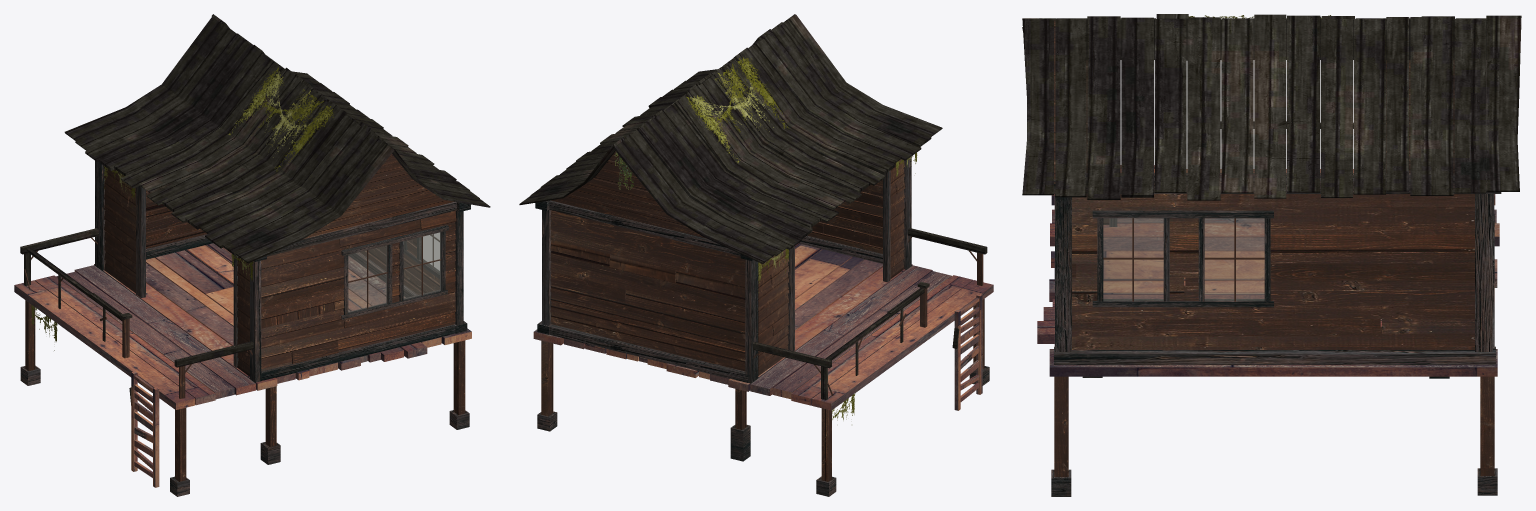
The model's file is forest_wooden_house.glb.
3 renders of one model, left to right at view 1: azimuth 30°, elevation 25°; view 2: azimuth 150°, elevation 25°; view 3: azimuth 270°, elevation 25°, orthographic. The views are drawn at different scales.
Parts seen in each view (by area): view 1: Roof_3, floor_0, left_side_4, frame_10, base_6, glass_left_18, front_wood_5, window_frame_left_17, roof_moss_1_16, ladder_8, rail_front_1_7, Right_Side_1 (+4 smaller); view 2: Roof_3, Right_Side_1, floor_0, frame_10, base_6, left_side_4, front_wood_5, roof_moss_1_16, ladder_8, rail_front_1_7, front_wood_2_11, rail_front_2_9; view 3: Roof_3, back_side_2, floor_0, frame_10, glass_back_20, back_window_frame_19, base_6, front_wood_5.
Boxes of the visible parts, left/top/right/bottom form: Roof_3: left=64, top=14, right=490, bottom=263; floor_0: left=14, top=243, right=471, bottom=409; left_side_4: left=261, top=154, right=456, bottom=371; frame_10: left=95, top=161, right=470, bottom=382; base_6: left=20, top=300, right=469, bottom=496; glass_left_18: left=348, top=232, right=440, bottom=312; front_wood_5: left=104, top=167, right=135, bottom=293; window_frame_left_17: left=341, top=225, right=448, bottom=319; roof_moss_1_16: left=228, top=67, right=333, bottom=171; ladder_8: left=129, top=371, right=159, bottom=487; rail_front_1_7: left=20, top=228, right=132, bottom=358; Right_Side_1: left=146, top=190, right=207, bottom=248; Roof_3: left=519, top=14, right=942, bottom=263; Right_Side_1: left=550, top=151, right=745, bottom=371; floor_0: left=533, top=243, right=993, bottom=410; frame_10: left=535, top=156, right=911, bottom=383; base_6: left=537, top=299, right=989, bottom=496; left_side_4: left=807, top=55, right=882, bottom=253; front_wood_5: left=758, top=250, right=789, bottom=375; roof_moss_1_16: left=686, top=57, right=788, bottom=162; ladder_8: left=952, top=293, right=982, bottom=410; rail_front_1_7: left=753, top=281, right=929, bottom=399; front_wood_2_11: left=890, top=159, right=905, bottom=278; rail_front_2_9: left=908, top=228, right=987, bottom=285; Roof_3: left=1022, top=14, right=1521, bottom=200; back_side_2: left=1072, top=194, right=1474, bottom=349; floor_0: left=1037, top=169, right=1499, bottom=376; frame_10: left=1054, top=60, right=1501, bottom=364; glass_back_20: left=1103, top=218, right=1264, bottom=300; back_window_frame_19: left=1092, top=210, right=1273, bottom=307; base_6: left=1051, top=376, right=1497, bottom=496; front_wood_5: left=1386, top=60, right=1454, bottom=172.
Size of the model in its own units: 24.82 by 23.37 by 24.89.
Materials: 7 (6 with a texture image).
